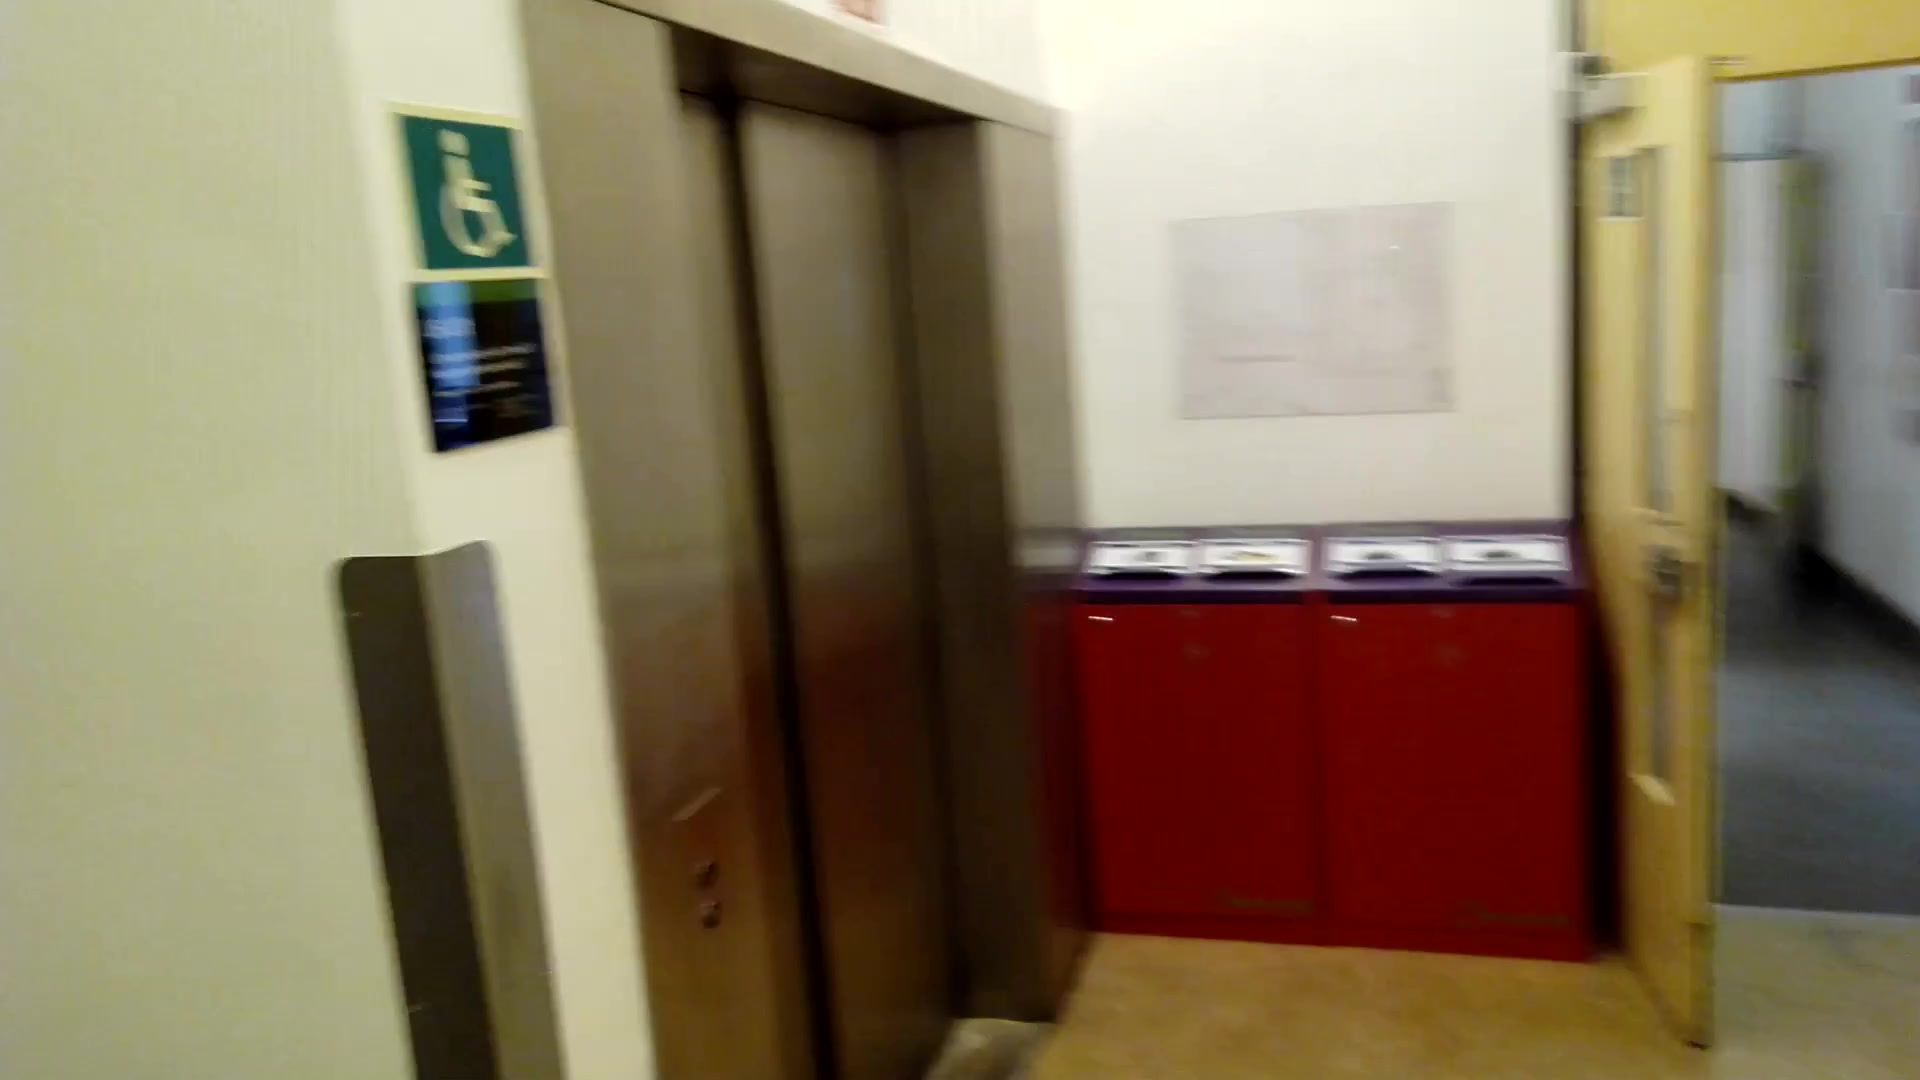Bin: (1076, 514, 1611, 981)
